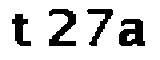2: (45, 3, 79, 51)
7: (84, 5, 115, 52)
a: (117, 15, 149, 49)
t: (8, 10, 34, 50)
